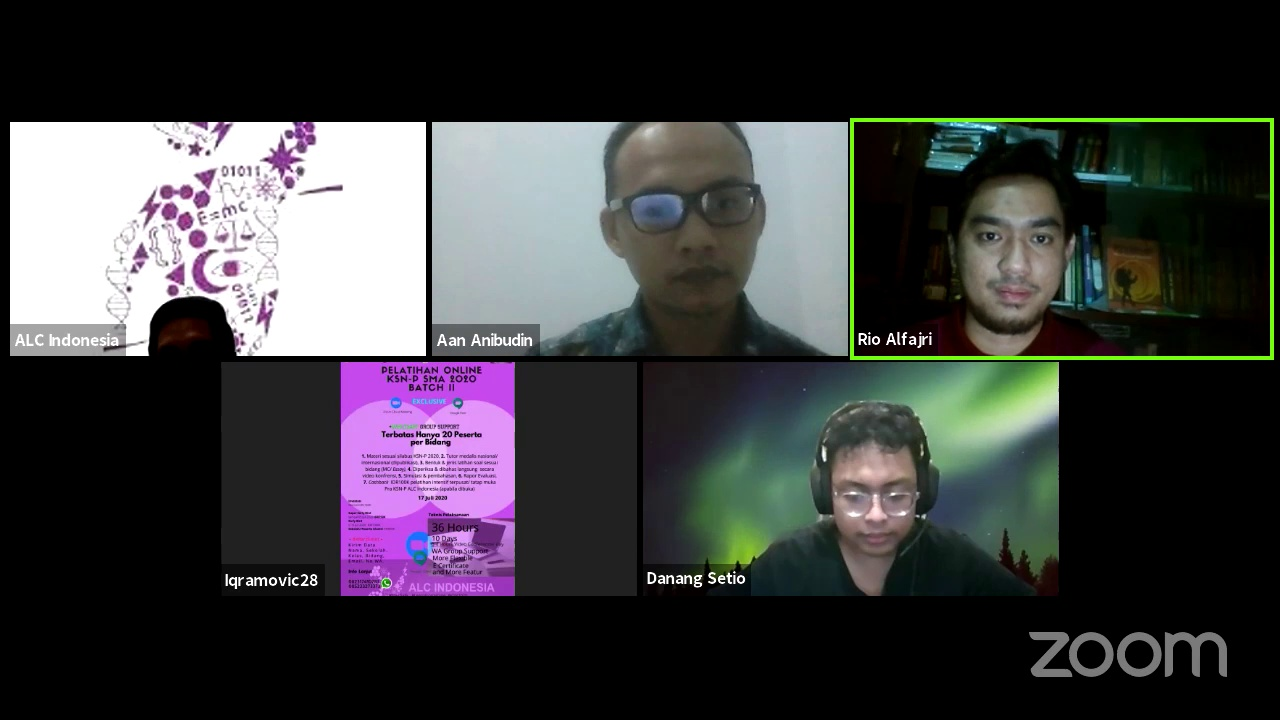Distracted: (811, 429, 939, 547)
Not Distracted: (581, 130, 795, 316), (944, 164, 1088, 326)
